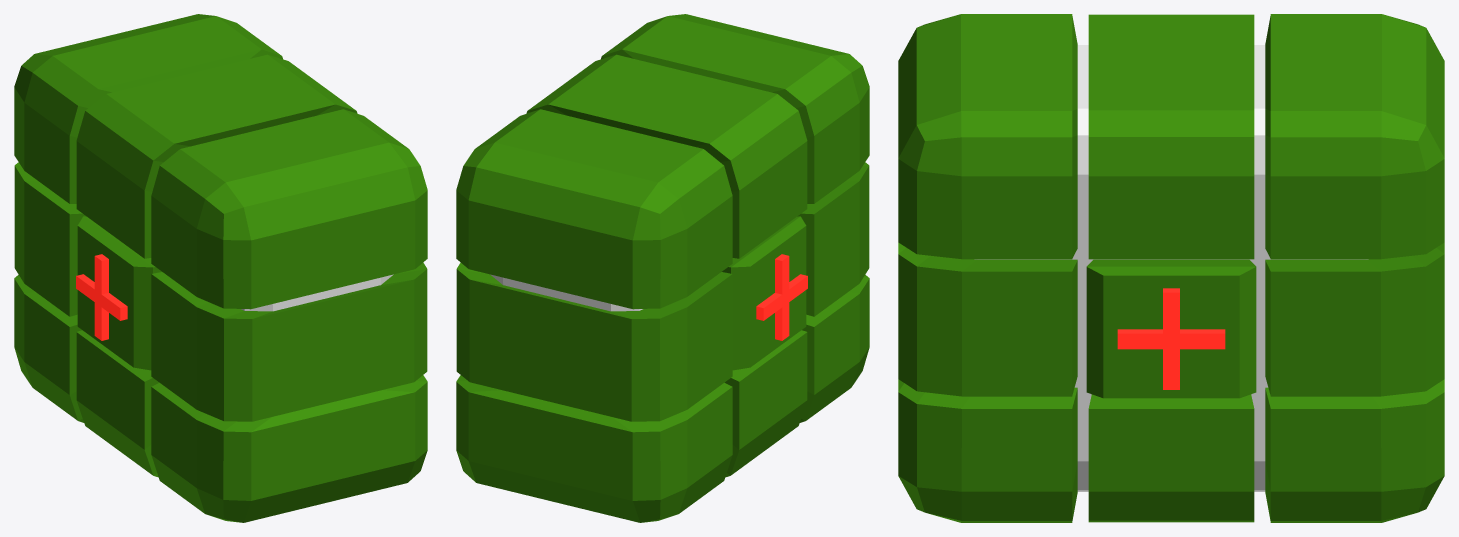
The model's file is sh and heal.fbx.
3 views of the same model, side by side, from view 1: azimuth 30°, elevation 25°; view 2: azimuth 150°, elevation 25°; view 3: azimuth 270°, elevation 25° (orthographic). The views are drawn at different scales.
Visible parts, largest first — view 1: Cube.001, Cube.003; view 2: Cube.001, Cube.003; view 3: Cube.001, Cube.002.
Part boxes in pixels (x1=…): Cube.001: x1=14, y1=14, x2=427, y2=522; Cube.003: x1=76, y1=274, x2=127, y2=320; Cube.001: x1=456, y1=14, x2=869, y2=522; Cube.003: x1=756, y1=274, x2=807, y2=320; Cube.001: x1=898, y1=14, x2=1444, y2=522; Cube.002: x1=1117, y1=329, x2=1225, y2=349.
Size of the model in its own units: 49.33 by 64.99 by 78.16.
